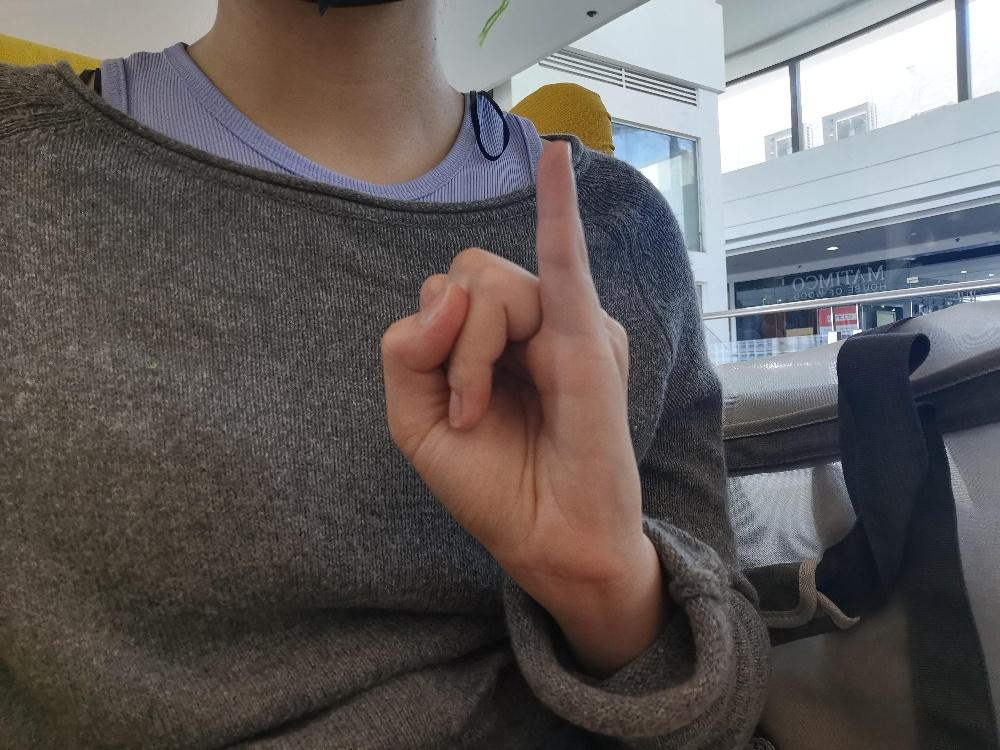i: (377, 137, 643, 582)
